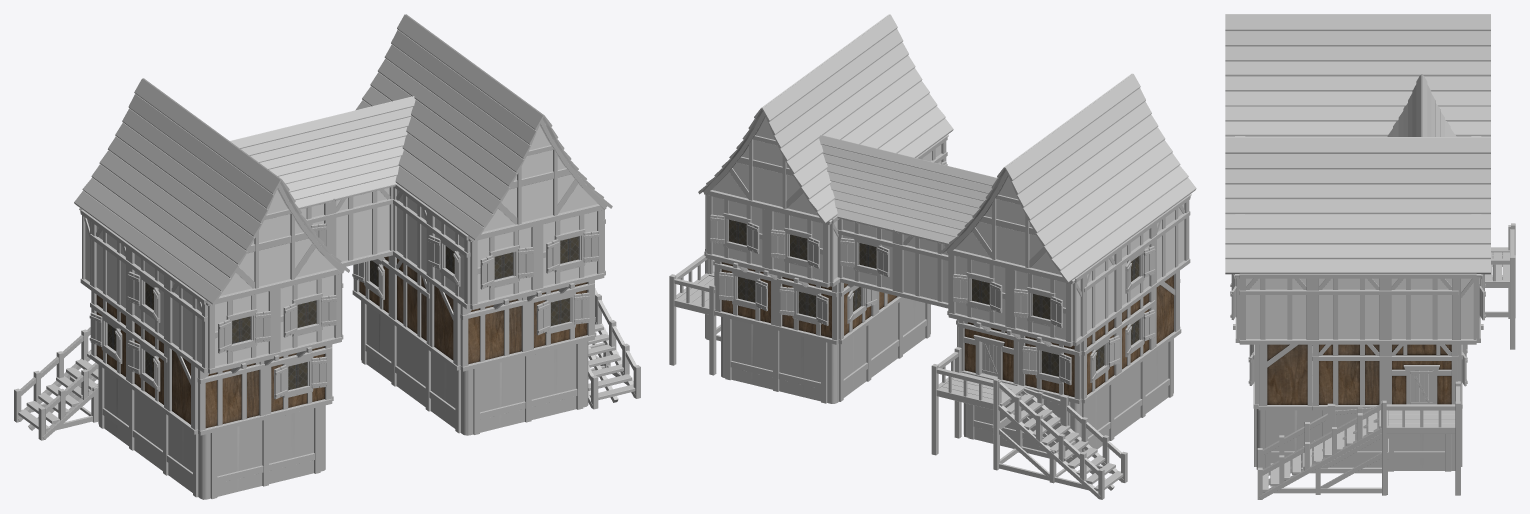
File: House_1A22.fbx
The picture shows the model from 3 angles, left to right: view 1: azimuth 30°, elevation 25°; view 2: azimuth 150°, elevation 25°; view 3: azimuth 270°, elevation 25°; orthographic projection. The views are drawn at different scales.
Parts seen in each view (by area): view 1: House_1A22; view 2: House_1A22; view 3: House_1A22, Cube.2348.
Part boxes in pixels (box(x1,y1,x2,y2)): House_1A22: box(14, 14, 640, 499); House_1A22: box(669, 14, 1196, 499); House_1A22: box(1225, 14, 1515, 499); Cube.2348: box(1410, 370, 1433, 404).
Bounding box in the file's own units: 3020 × 1879 × 1597.
